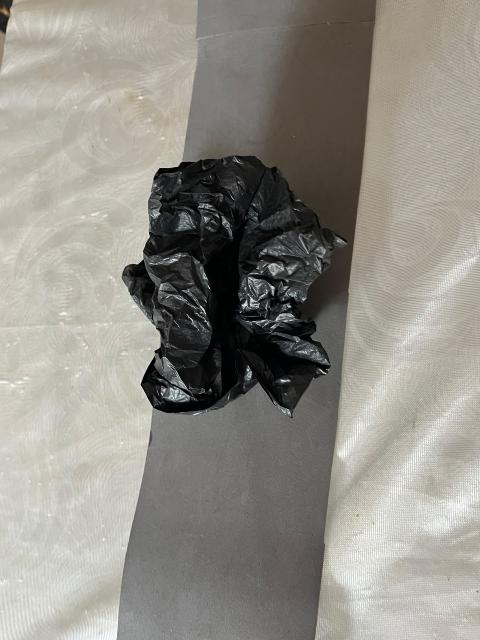LDPE: (117, 135, 354, 452)
